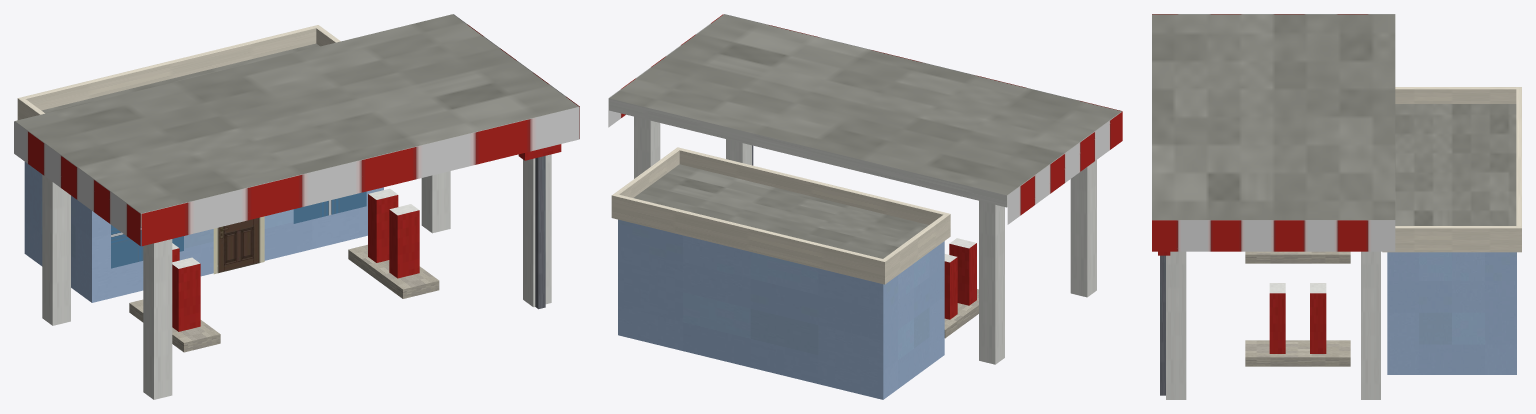
File: filling-sky.glb
The picture shows the model from 3 angles, left to right: view 1: azimuth 30°, elevation 25°; view 2: azimuth 150°, elevation 25°; view 3: azimuth 270°, elevation 25°; orthographic projection. The views are drawn at different scales.
Parts seen in each view (by area): view 1: filling-sky; view 2: filling-sky; view 3: filling-sky.
Boxes of the visible parts, x1=… form: filling-sky: x1=14, y1=14, x2=579, y2=399; filling-sky: x1=608, y1=14, x2=1122, y2=399; filling-sky: x1=1152, y1=14, x2=1521, y2=399.
Bounding box in the file's own units: 12.04 × 5.15 × 9.14.
1 material, 1 textured.
